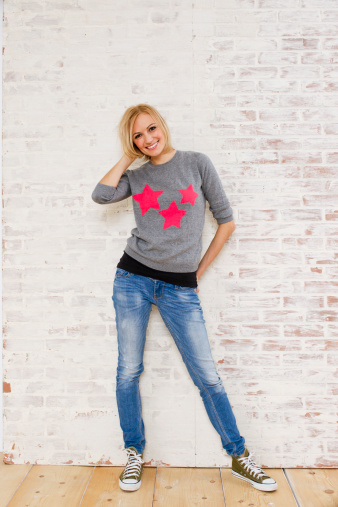em pe: (77, 93, 258, 492)
